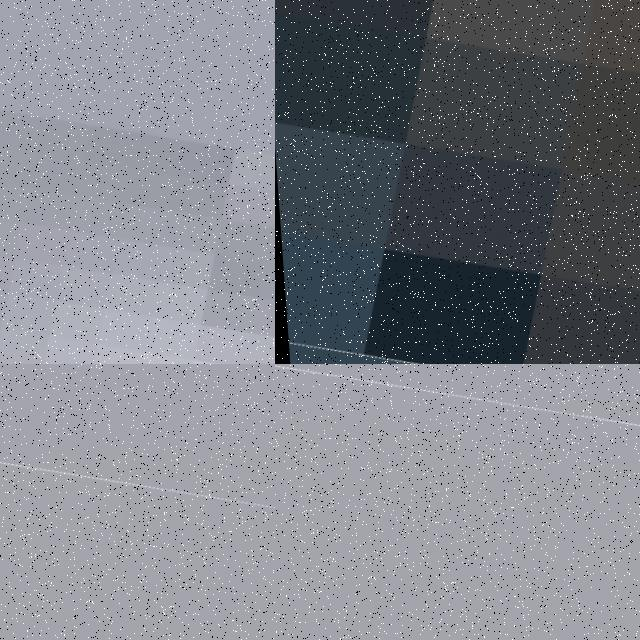drone: (275, 0, 640, 364), (275, 364, 640, 640), (0, 0, 275, 364), (0, 424, 275, 640)
